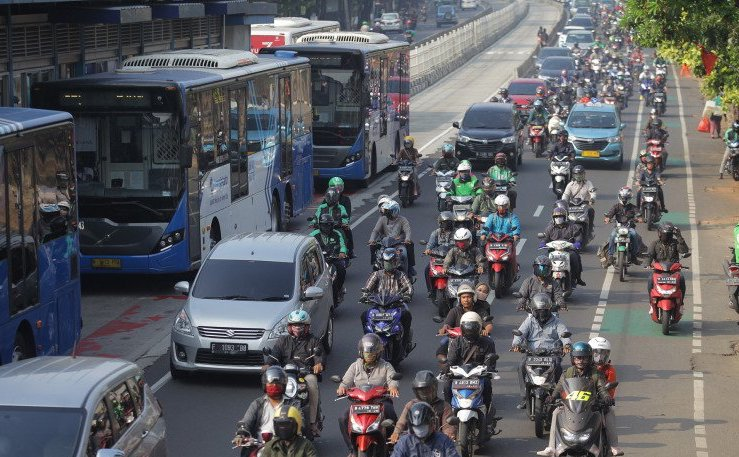plate: (210, 342, 249, 356), (525, 357, 552, 368), (91, 259, 118, 268), (453, 380, 475, 389), (371, 312, 393, 321), (352, 407, 379, 414), (449, 279, 472, 287), (549, 254, 566, 263), (656, 277, 675, 285), (489, 243, 507, 251), (581, 151, 599, 158), (453, 204, 470, 211), (475, 151, 492, 158), (568, 207, 584, 214), (552, 162, 568, 168), (640, 187, 656, 193), (614, 238, 631, 243), (437, 176, 451, 182), (517, 109, 531, 115), (495, 185, 506, 192), (727, 277, 737, 284), (435, 259, 443, 266), (400, 167, 412, 171), (651, 148, 662, 152), (533, 126, 542, 130)
